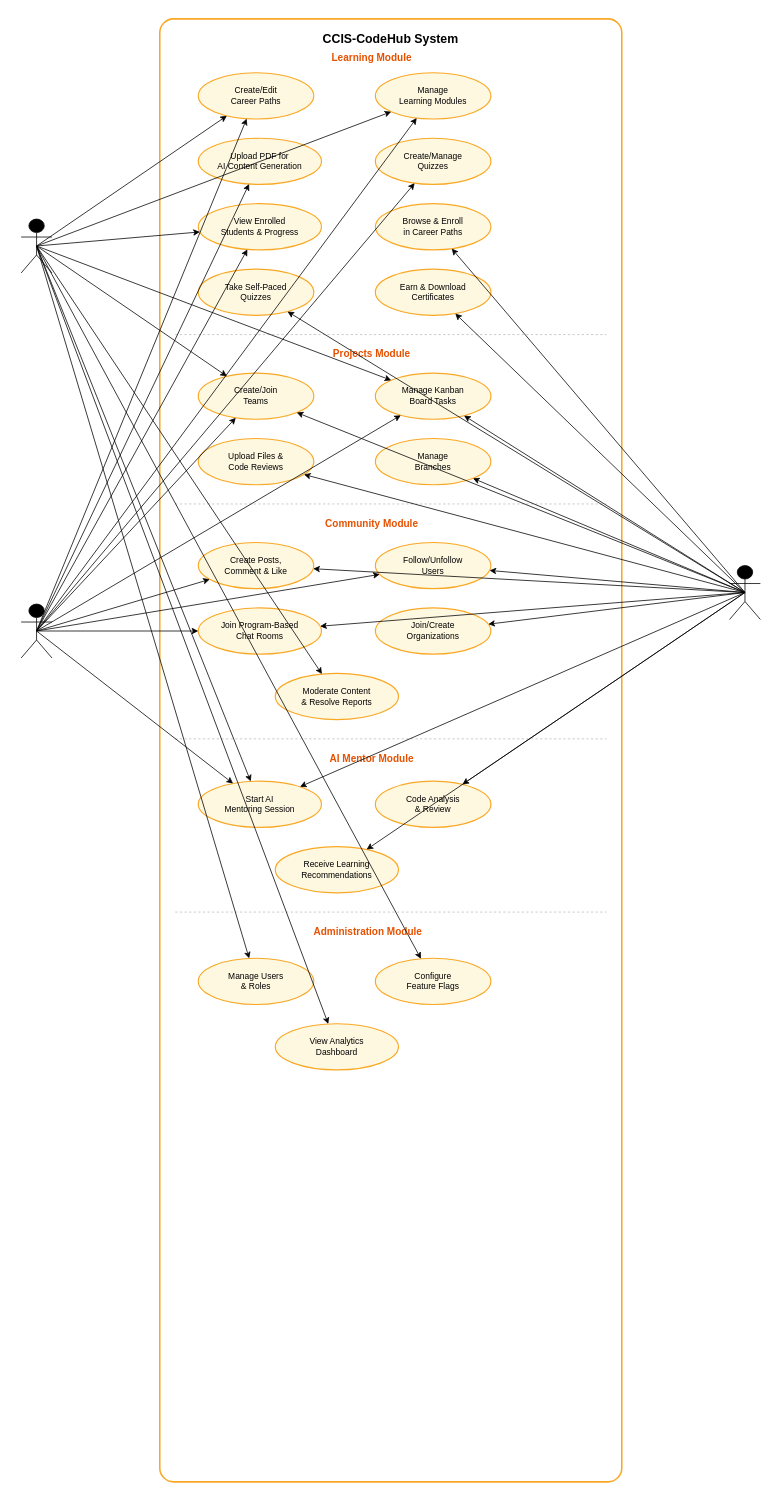
Some shapes in this 777 by 1496 pixel diagram are drawn without their labels. The centre of each missing label's shape, as x and y in pixels:
"Admin" belongs at pixel 36 245.
"Instructor" belongs at pixel 36 630.
"Student" belongs at pixel 744 592.
